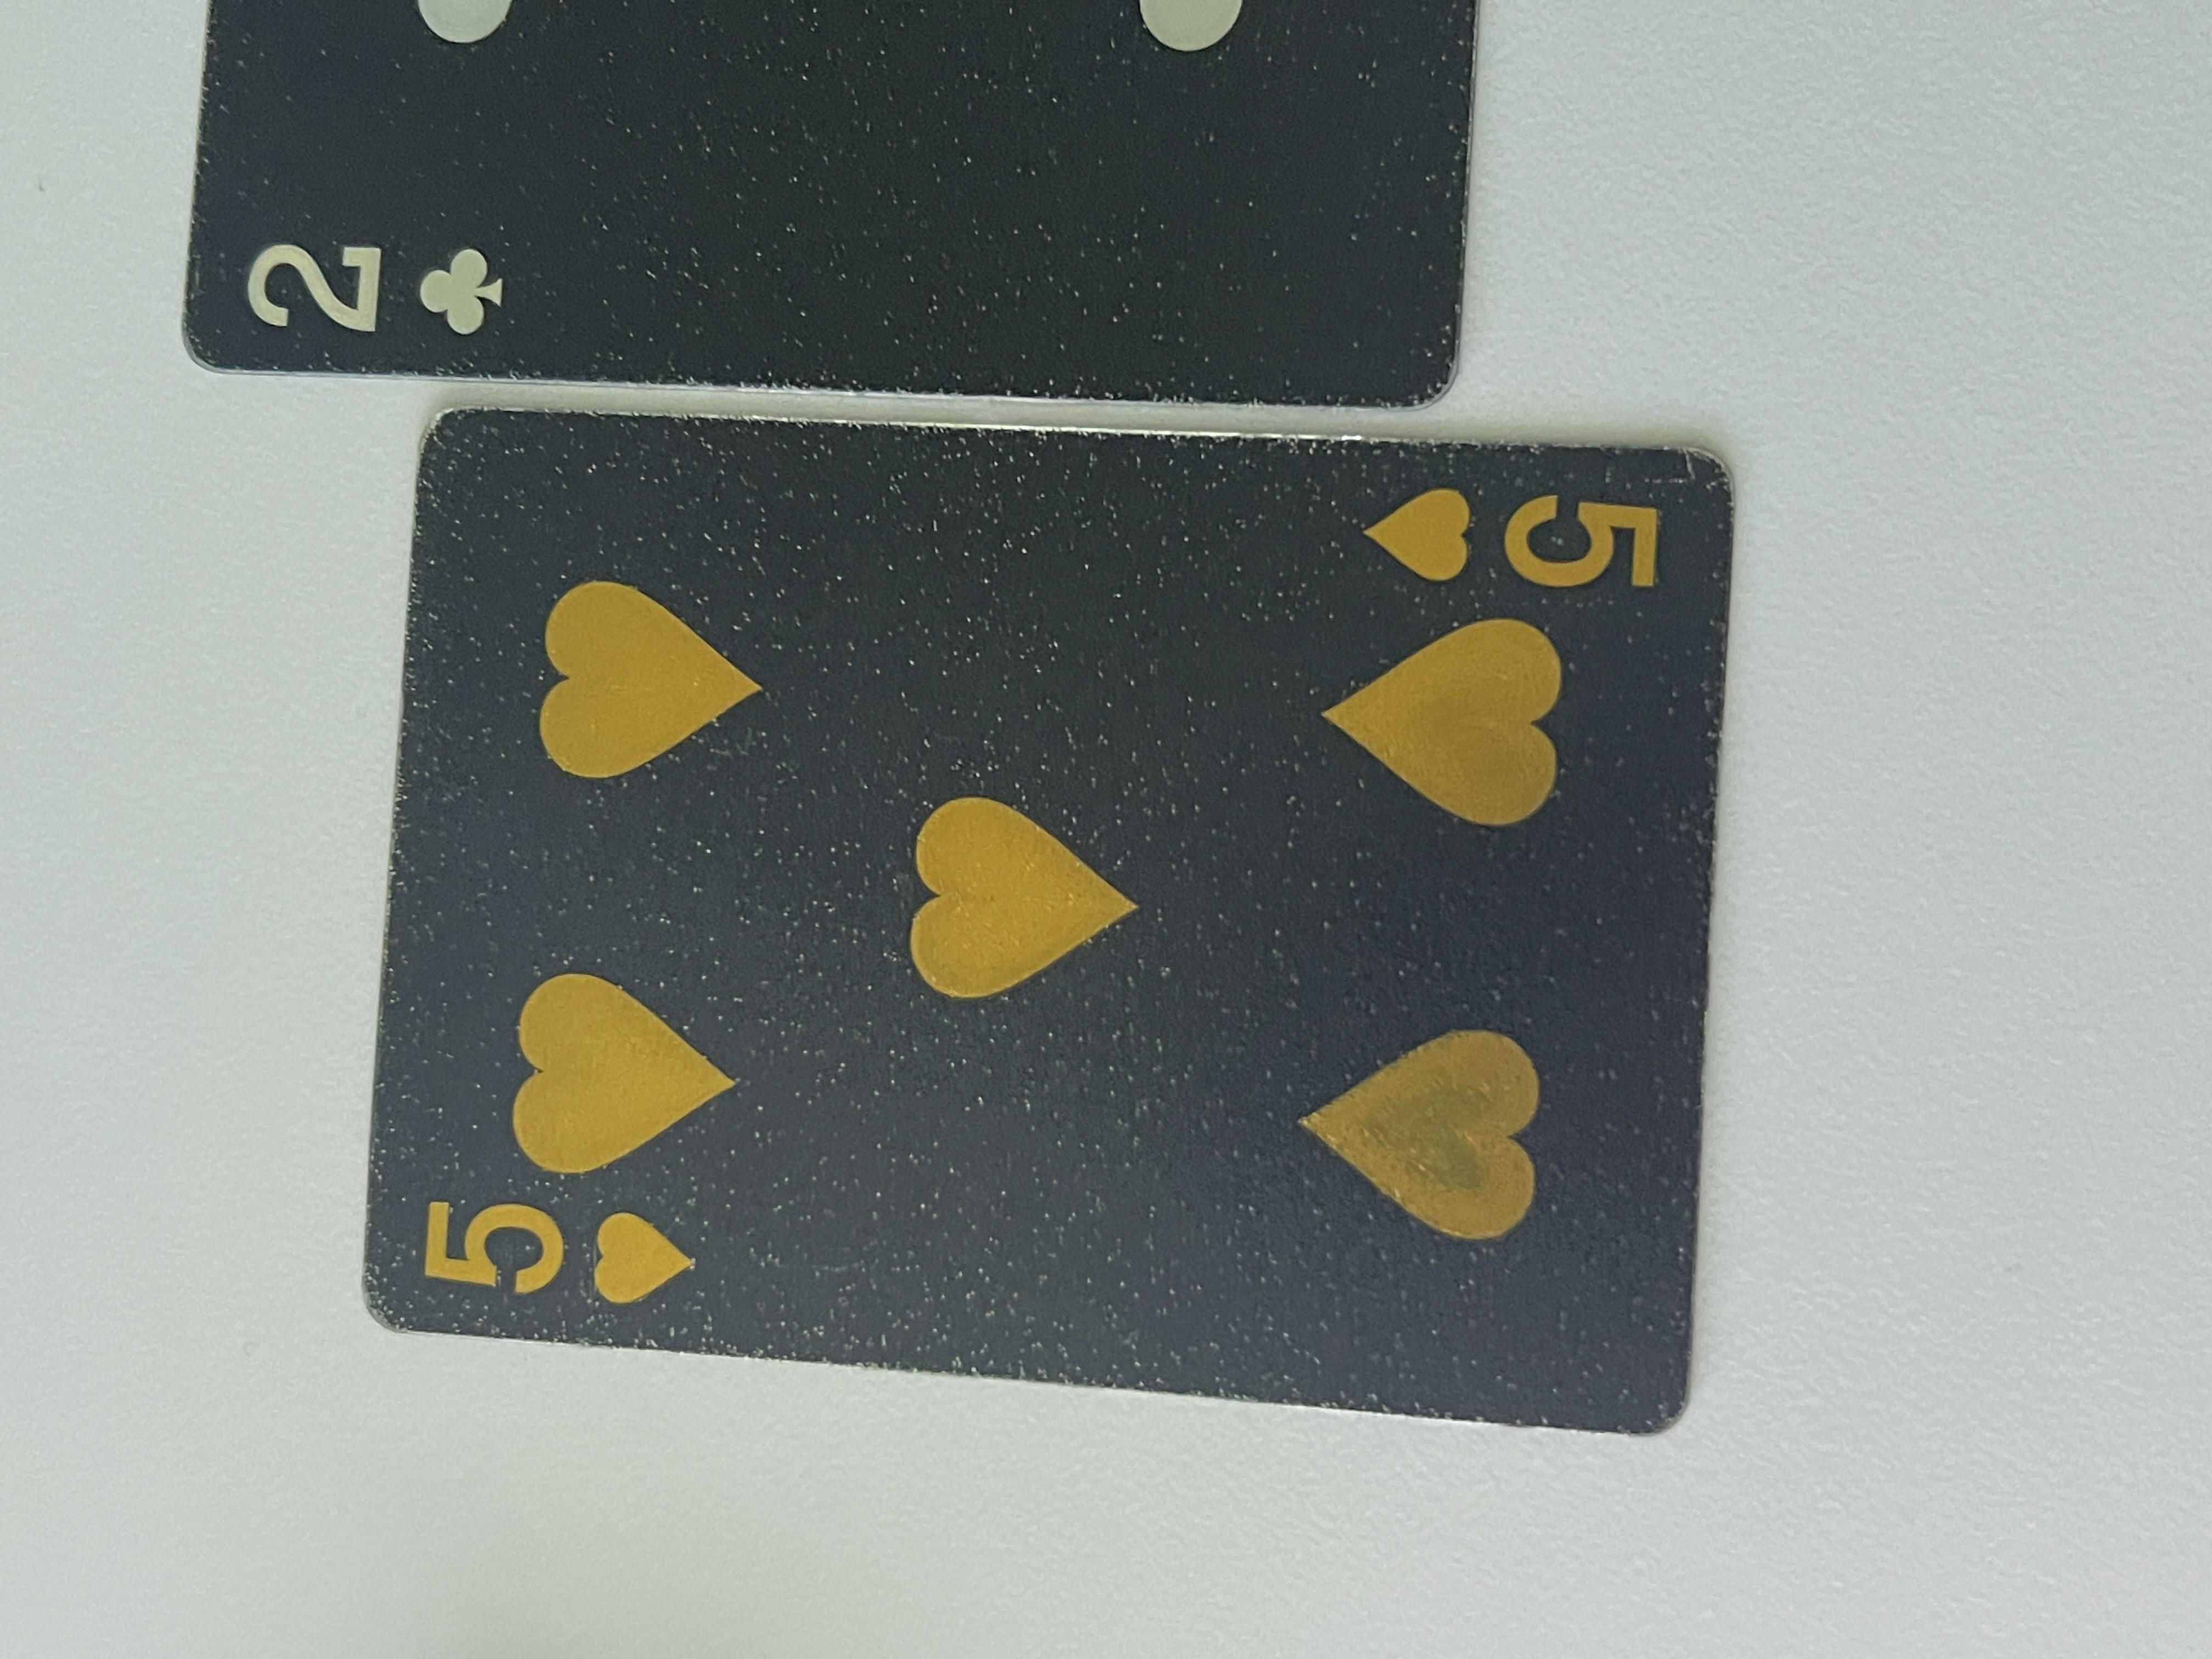2C: (1726, 157, 1946, 403)
5H: (453, 300, 648, 535), (1413, 1011, 1583, 1255)
